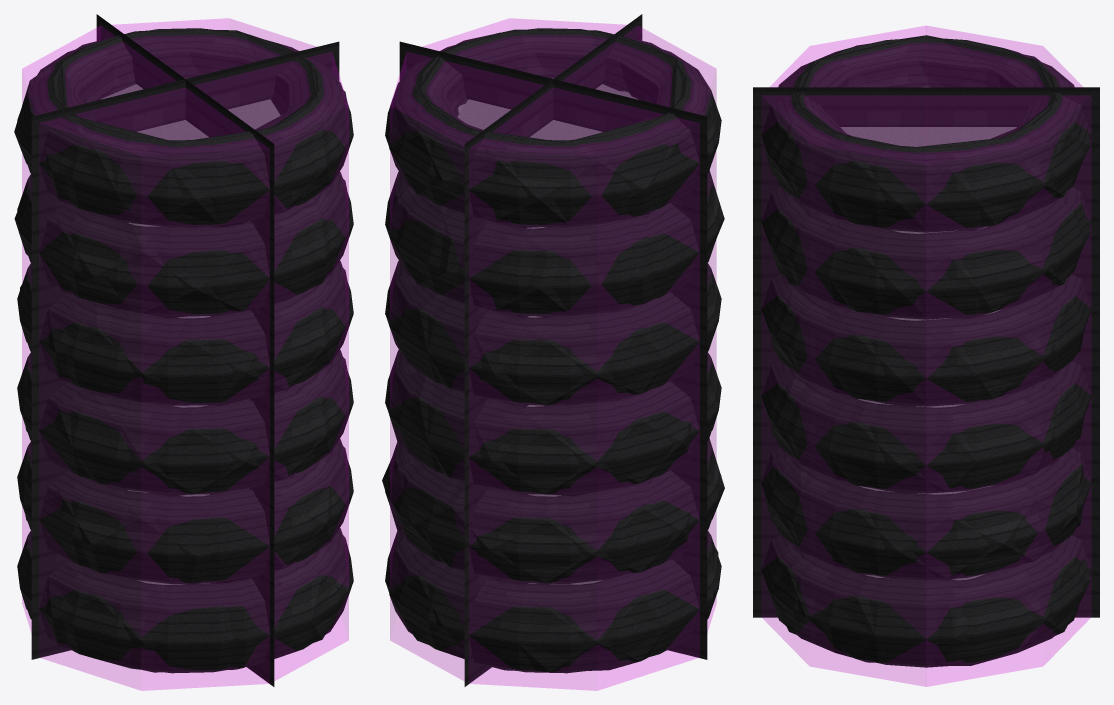
Rendered from tire_stack_6.dae.
The picture shows the model from 3 angles, left to right: view 1: azimuth 30°, elevation 25°; view 2: azimuth 150°, elevation 25°; view 3: azimuth 270°, elevation 25°; orthographic projection. The views are drawn at different scales.
Parts seen in each view (by area): view 1: tire_stack_6_a800, Colmesh_stack-1, tire_stack_6_a200, tire_stack_6_a50; view 2: tire_stack_6_a800, Colmesh_stack-1, tire_stack_6_a200, tire_stack_6_a50; view 3: tire_stack_6_a800, Colmesh_stack-1, tire_stack_6_a200, tire_stack_6_a50.
Boxes of the visible parts, <box> form: tire_stack_6_a800: <box>17,28,353,673</box>; Colmesh_stack-1: <box>22,18,348,690</box>; tire_stack_6_a200: <box>14,30,353,672</box>; tire_stack_6_a50: <box>31,14,339,686</box>; tire_stack_6_a800: <box>385,28,721,673</box>; Colmesh_stack-1: <box>390,18,716,690</box>; tire_stack_6_a200: <box>382,29,724,672</box>; tire_stack_6_a50: <box>399,14,707,686</box>; tire_stack_6_a800: <box>761,37,1091,667</box>; Colmesh_stack-1: <box>762,26,1090,686</box>; tire_stack_6_a200: <box>761,35,1090,665</box>; tire_stack_6_a50: <box>753,87,1099,617</box>.
Bounding box in the file's own units: 0.798 × 0.798 × 1.35.
Materials: 3 (2 with a texture image).
